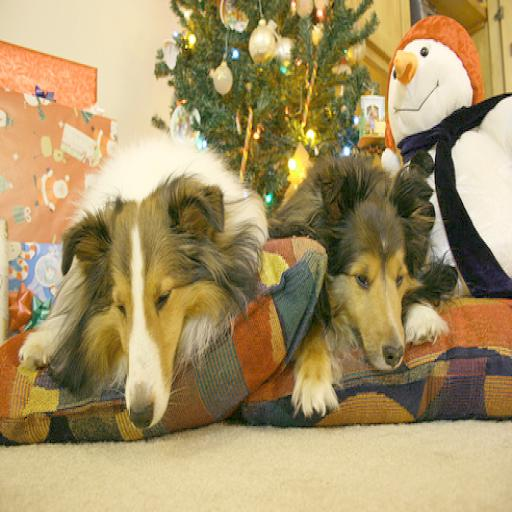dog_face: (56, 183, 221, 429), (313, 151, 432, 370)
